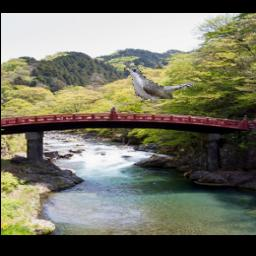Cuckoo: (124, 68, 197, 107)
